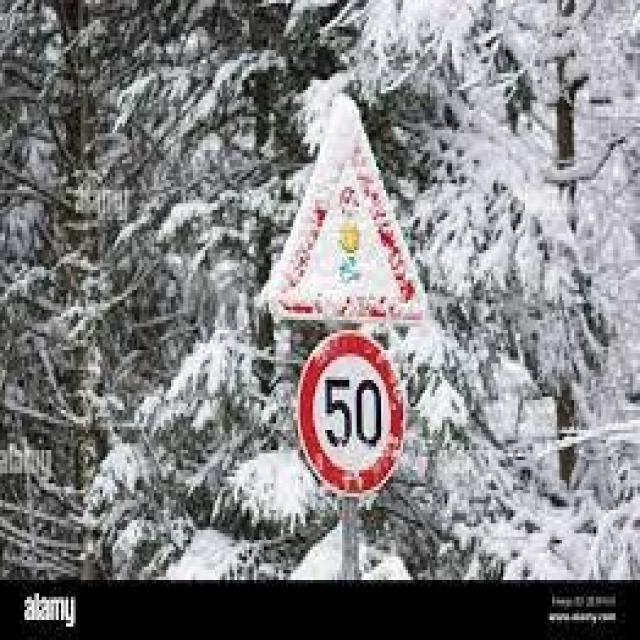speed_limit_50: (290, 330, 421, 503)
